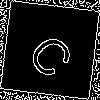C: (25, 25, 84, 82)
